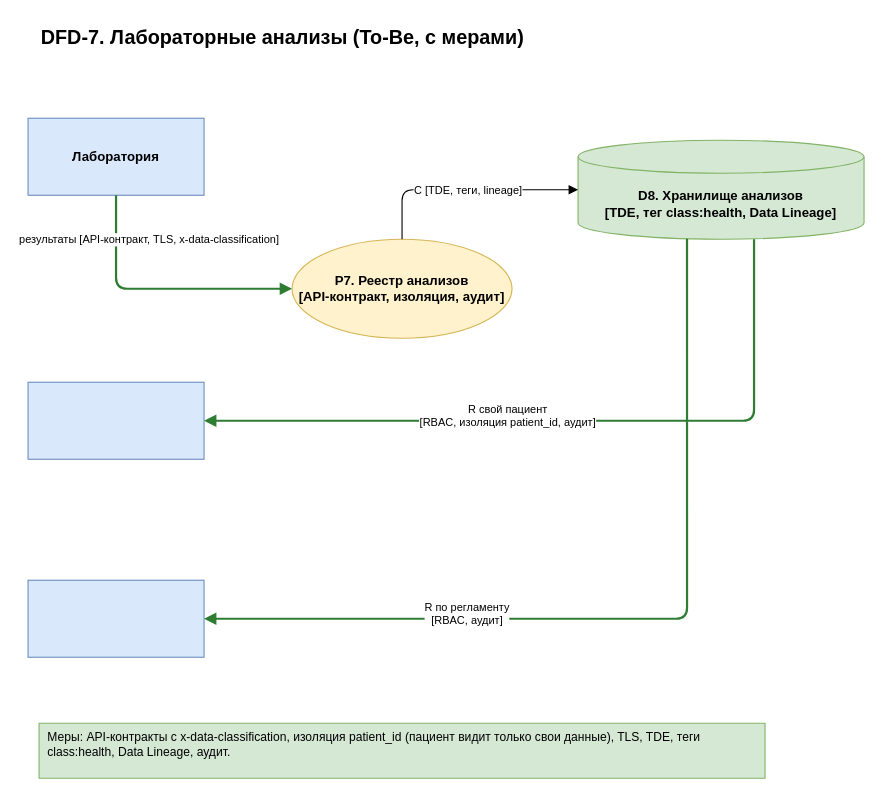
Image size: 883x798. Some labels were removed from this diagram. Here are the shapes that lost their labels. From the top down, the centre of each, then its label:
the point at 115,420: Врач
the point at 115,618: Администратор
